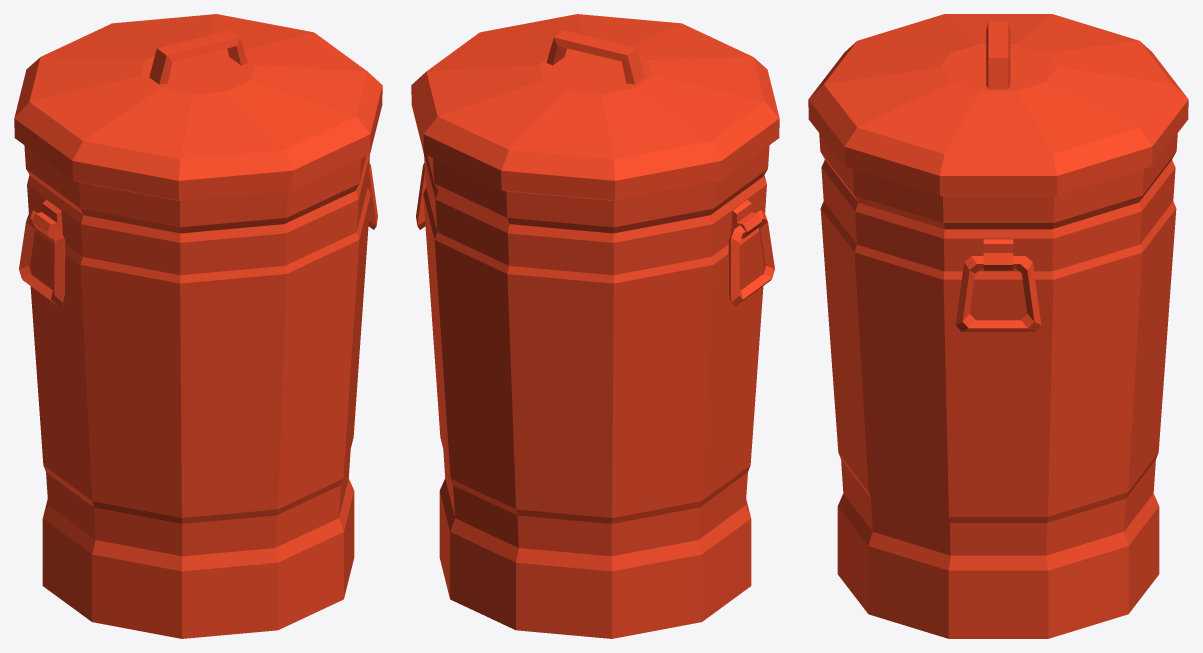
The model's file is SM_Bin_C_City.fbx.
The picture shows the model from 3 angles, left to right: view 1: azimuth 30°, elevation 25°; view 2: azimuth 150°, elevation 25°; view 3: azimuth 270°, elevation 25°; orthographic projection.
Visible parts, largest first — view 1: SM_Bin_C_City_Base, SM_Bin_C_City_Top; view 2: SM_Bin_C_City_Base, SM_Bin_C_City_Top; view 3: SM_Bin_C_City_Base, SM_Bin_C_City_Top.
Part boxes in pixels (box(x1,y1,x2,y2)): SM_Bin_C_City_Base: box(19, 145, 377, 638); SM_Bin_C_City_Top: box(14, 14, 382, 200); SM_Bin_C_City_Base: box(416, 145, 774, 638); SM_Bin_C_City_Top: box(411, 14, 779, 200); SM_Bin_C_City_Base: box(819, 133, 1177, 638); SM_Bin_C_City_Top: box(808, 14, 1188, 196).
Bounding box in the file's own units: 0.7596 × 1.18 × 0.7632.
